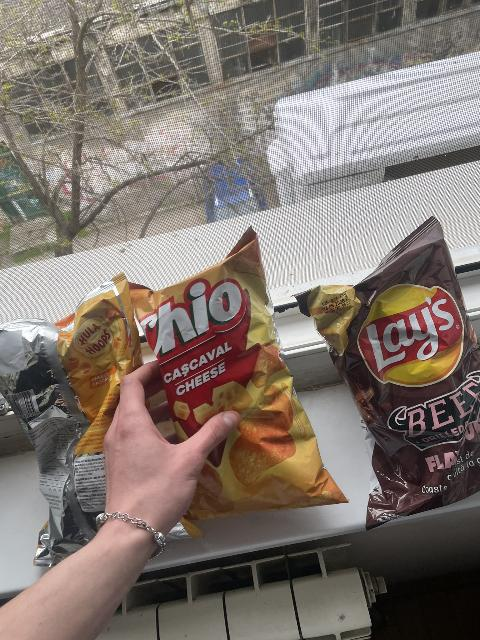Chio Cascaval 125g: (136, 222, 346, 518)
Chio Hula Hoops Cheese 70g: (2, 269, 199, 571)
Lays Beef Grilled Ribs 125g: (288, 215, 478, 524)
